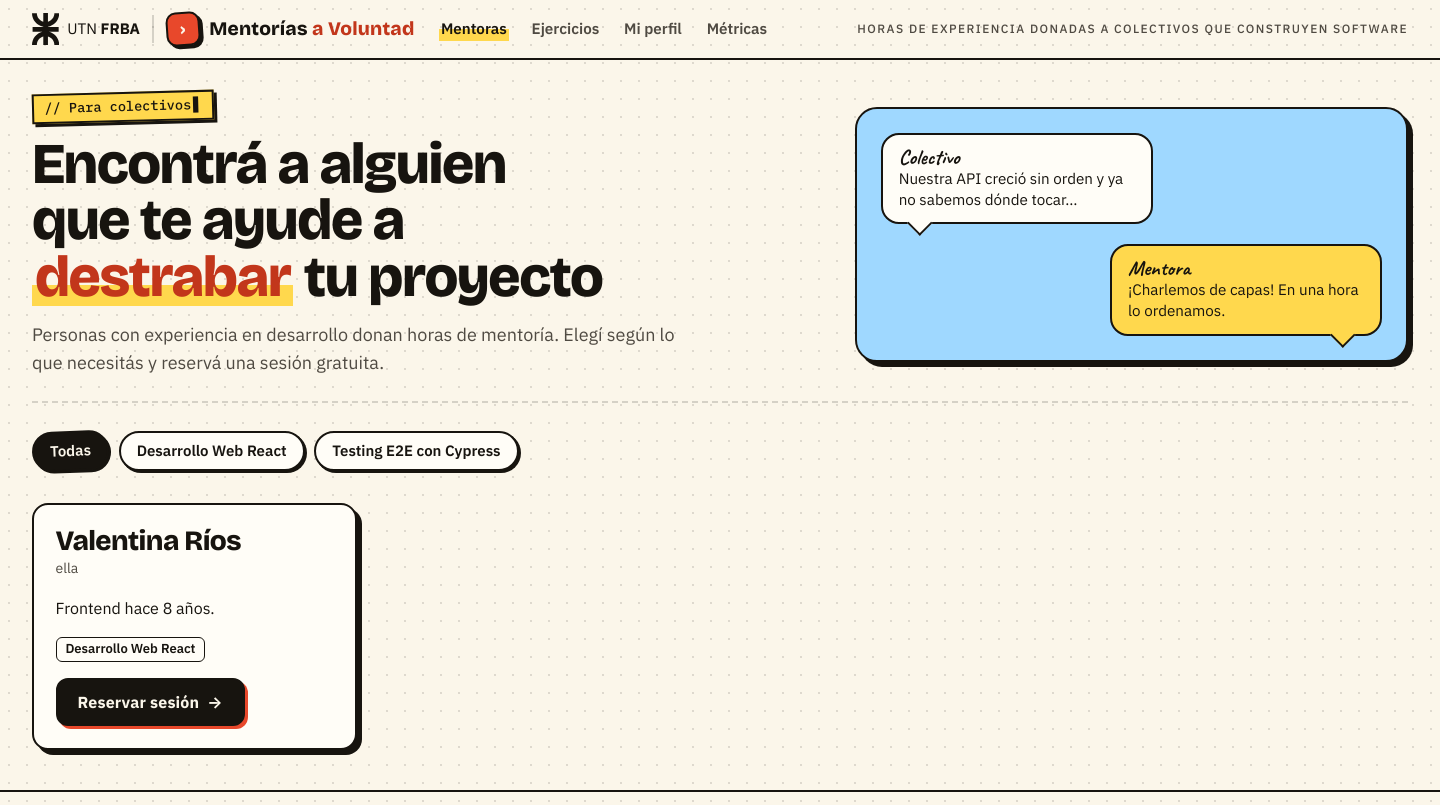
Navegación principal › desde el inicio se llega a Ejercicios
Click the link "Ejercicios".
click(565, 29)  # box top-left (529, 14), bottom-right (602, 44)
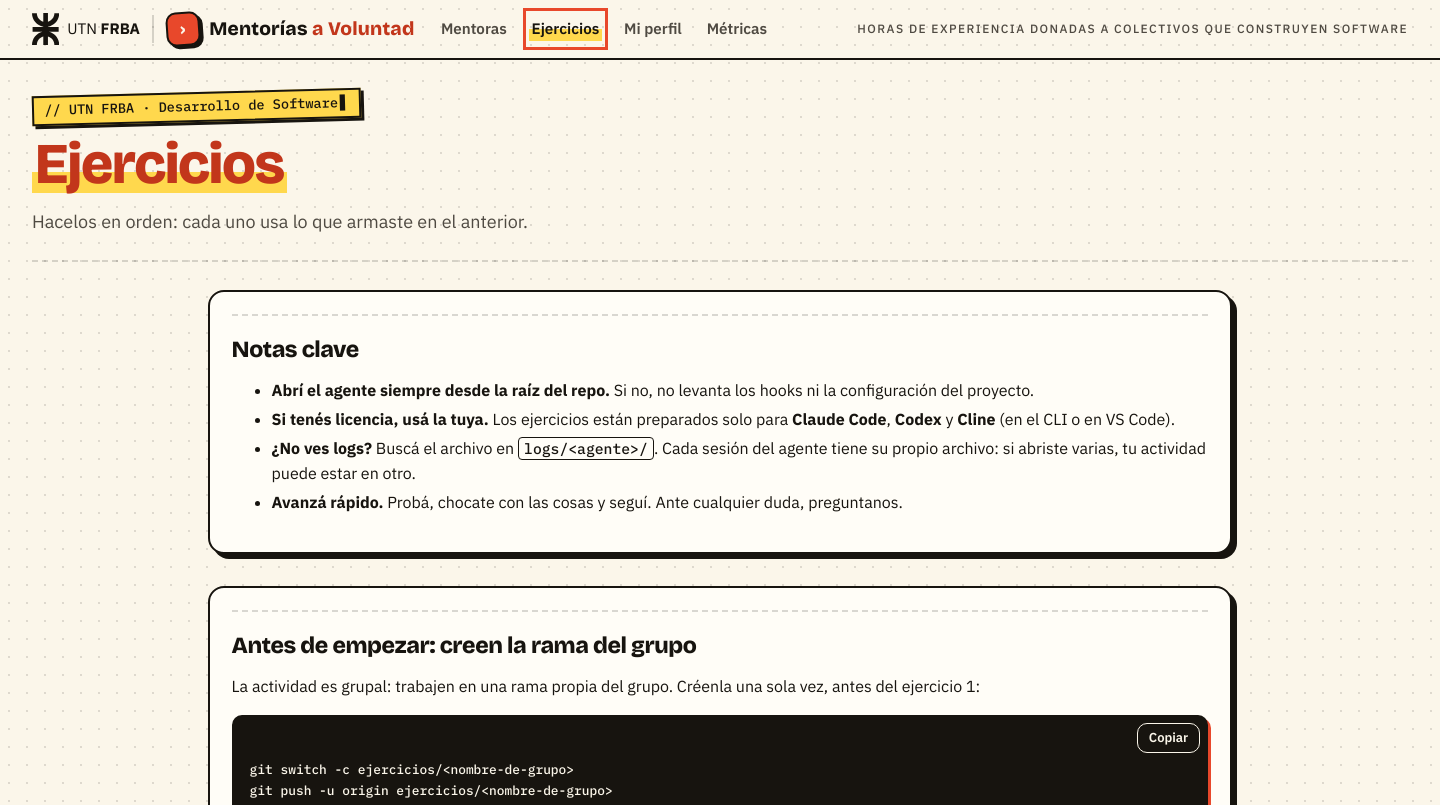
Expected: the heading "Ejercicios" is shown, top-left (32, 129), bottom-right (287, 199)
